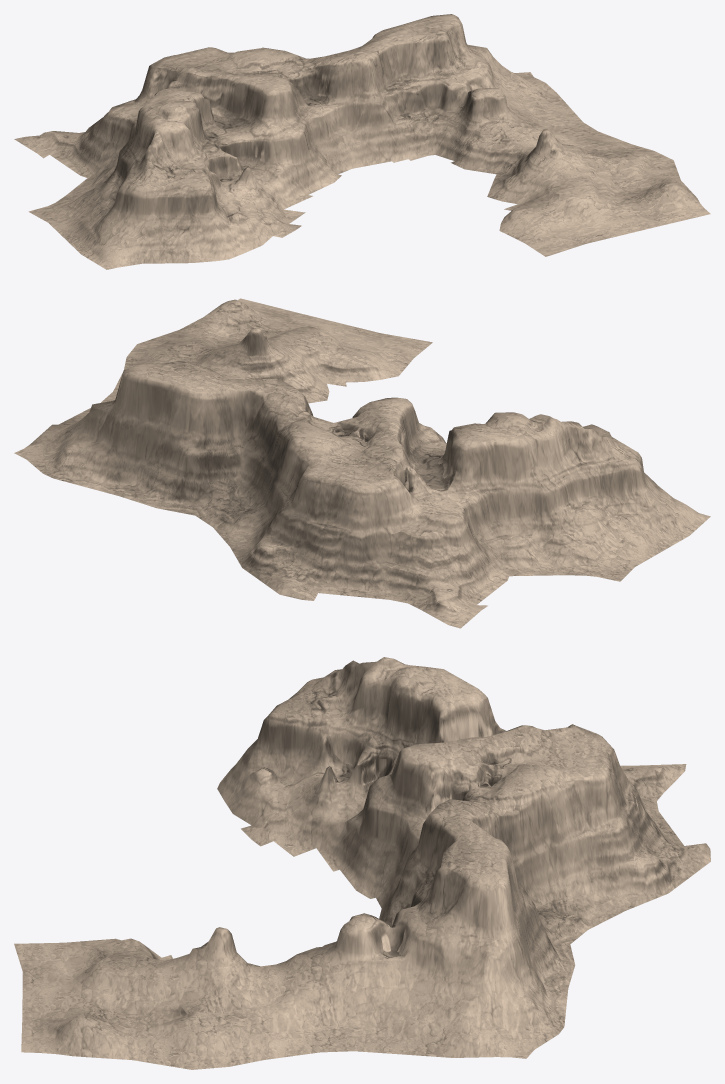
File: Mountain_01.gltf
The picture shows the model from 3 angles, top to bottom: view 1: azimuth 30°, elevation 25°; view 2: azimuth 150°, elevation 25°; view 3: azimuth 270°, elevation 25°; orthographic projection. The views are drawn at different scales.
Visible parts, largest first — view 1: Mountain_01(Clone); view 2: Mountain_01(Clone); view 3: Mountain_01(Clone).
Boxes of the visible parts, left/top/right/bottom form: Mountain_01(Clone): left=14, top=14, right=710, bottom=269; Mountain_01(Clone): left=14, top=298, right=710, bottom=628; Mountain_01(Clone): left=14, top=657, right=710, bottom=1069.
Bounding box in the file's own units: 98.16 × 16.94 × 82.65.
1 material, 1 textured.
